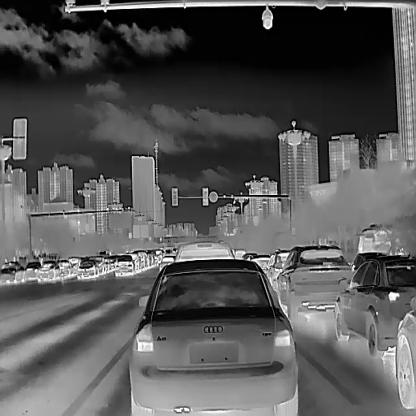car: (128, 258, 298, 416), (334, 253, 416, 355), (274, 244, 353, 320), (394, 294, 415, 409), (174, 238, 233, 262), (0, 259, 24, 281), (36, 259, 60, 280), (113, 252, 134, 275), (76, 258, 98, 279), (23, 259, 40, 279), (56, 258, 73, 276), (158, 254, 174, 272), (233, 247, 245, 258)
truck: (355, 220, 407, 254)
